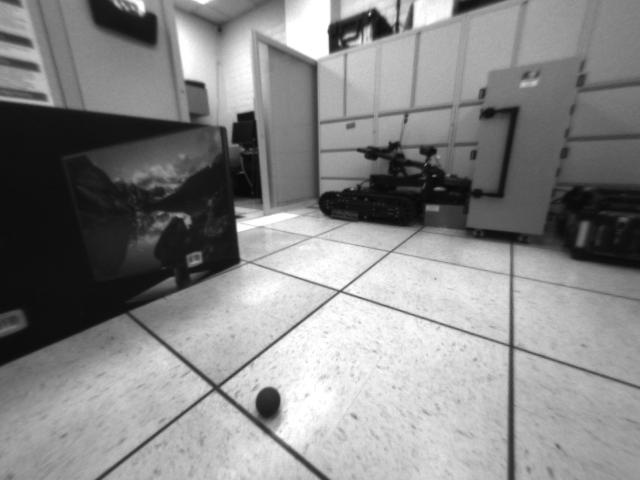dogtoy: (250, 381, 289, 422)
